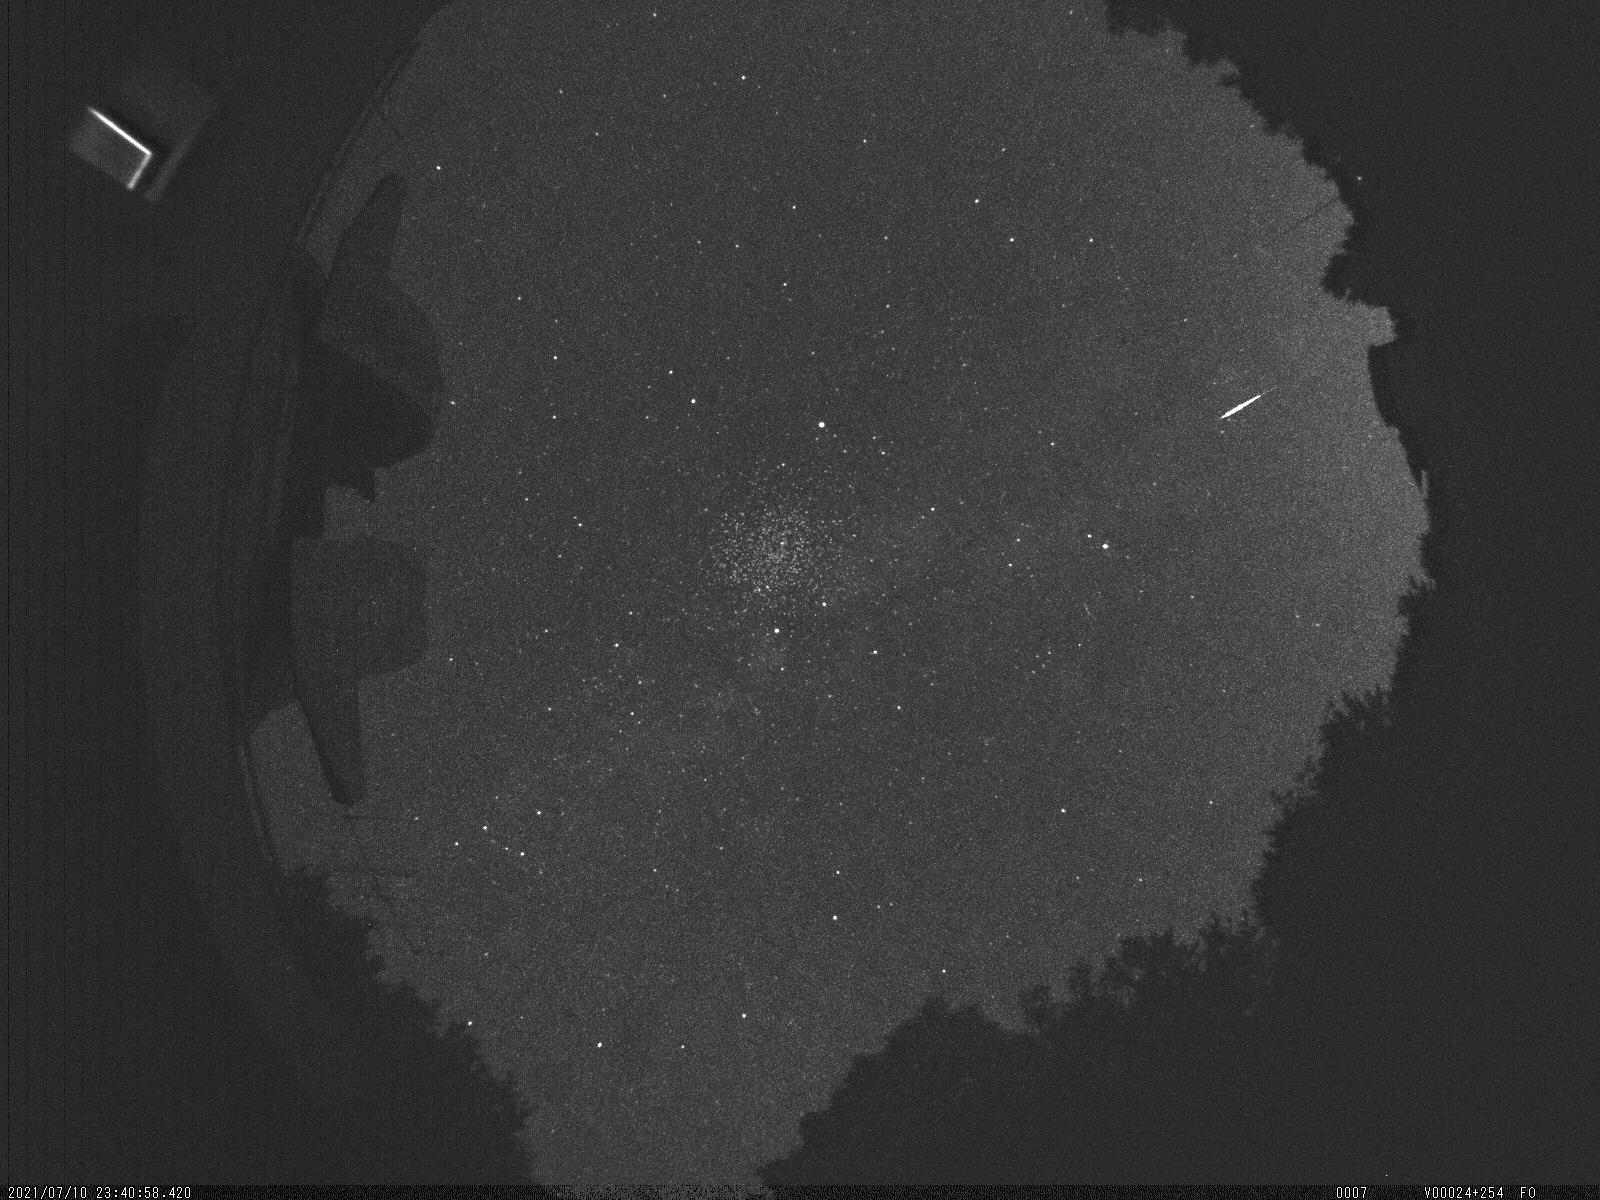Meteor: (1208, 383, 1272, 430)
